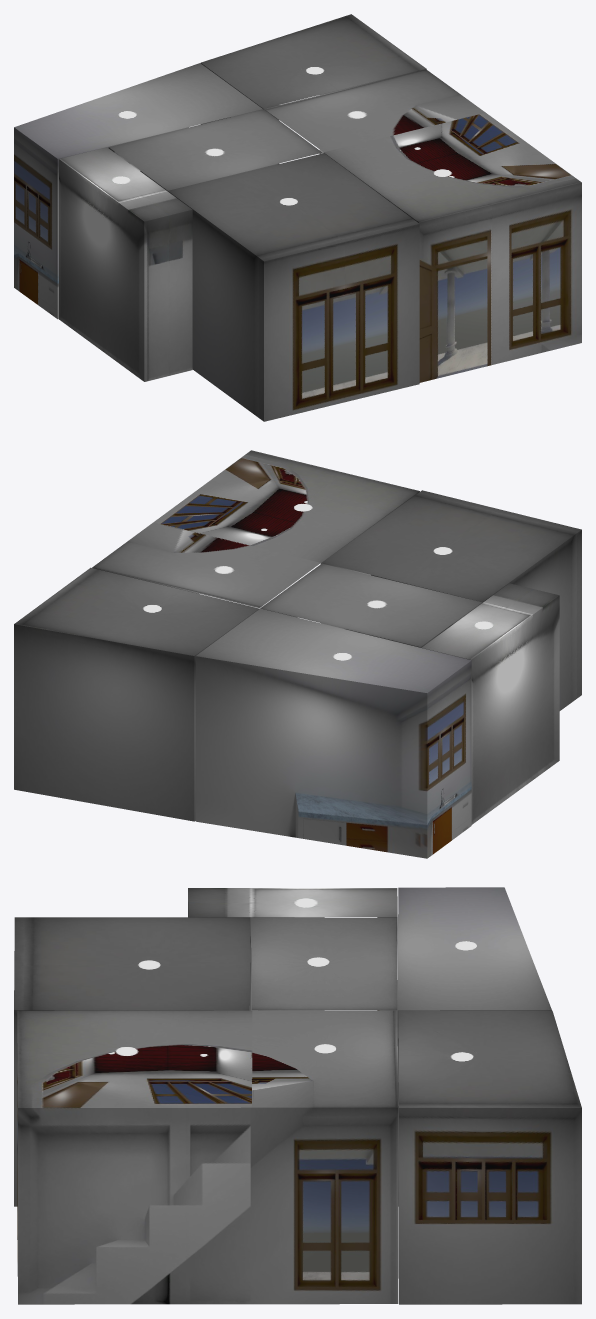
Rendered from floor1.glb.
The picture shows the model from 3 angles, top to bottom: view 1: azimuth 30°, elevation 25°; view 2: azimuth 150°, elevation 25°; view 3: azimuth 270°, elevation 25°; orthographic projection. The views are drawn at different scales.
Parts seen in each view (by area): view 1: Bedroom 2 Mesh, Foyer Mesh, Bathroom Mesh, Kitchen Mesh, Bedroom 1 Mesh, Living Room Mesh, Dining Room Mesh; view 2: Kitchen Mesh, Bedroom 1 Mesh, Bedroom 2 Mesh, Bathroom Mesh, Foyer Mesh, Living Room Mesh, Dining Room Mesh; view 3: Foyer Mesh, Bedroom 1 Mesh, Living Room Mesh, Bedroom 2 Mesh, Kitchen Mesh, Dining Room Mesh, Bathroom Mesh.
Boxes of the visible parts, x1,y1,x2,y2 form: Bedroom 2 Mesh: (168,153,419,421); Foyer Mesh: (323,113,581,382); Bathroom Mesh: (59,147,192,381); Kitchen Mesh: (14,63,262,319); Bedroom 1 Mesh: (200,14,426,165); Living Room Mesh: (264,69,485,151); Dining Room Mesh: (108,109,322,191); Kitchen Mesh: (195,608,471,858); Bedroom 1 Mesh: (14,567,259,821); Bedroom 2 Mesh: (322,490,581,710); Bathroom Mesh: (422,583,559,824); Foyer Mesh: (154,450,419,628); Living Room Mesh: (92,522,320,608); Dining Room Mesh: (260,563,482,647); Foyer Mesh: (17,1010,252,1304); Bedroom 1 Mesh: (398,1010,581,1304); Living Room Mesh: (250,1010,398,1304); Bedroom 2 Mesh: (14,917,250,1206); Kitchen Mesh: (397,887,551,1206); Dining Room Mesh: (251,917,397,1010); Bathroom Mesh: (188,888,397,1010).
Size of the model in its own units: 9.95 by 4.13 by 10.81.
21 materials, 21 textured.
